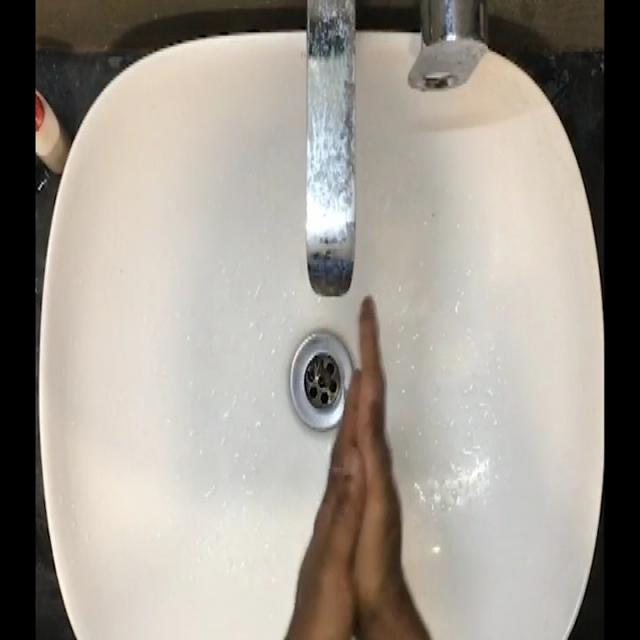step_1: (286, 286, 418, 626)
